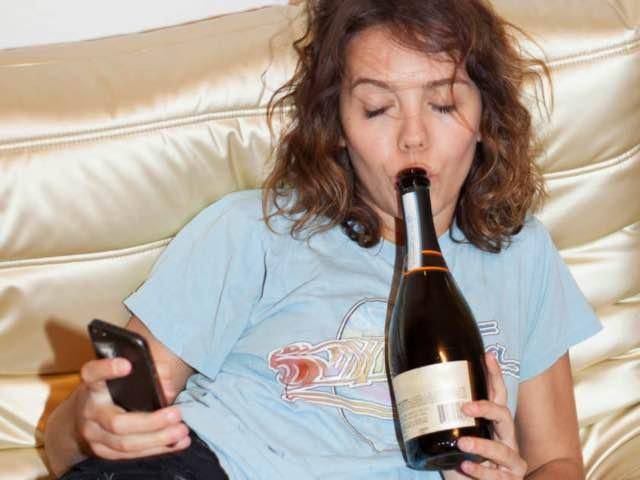Drunk: (346, 36, 481, 210)
